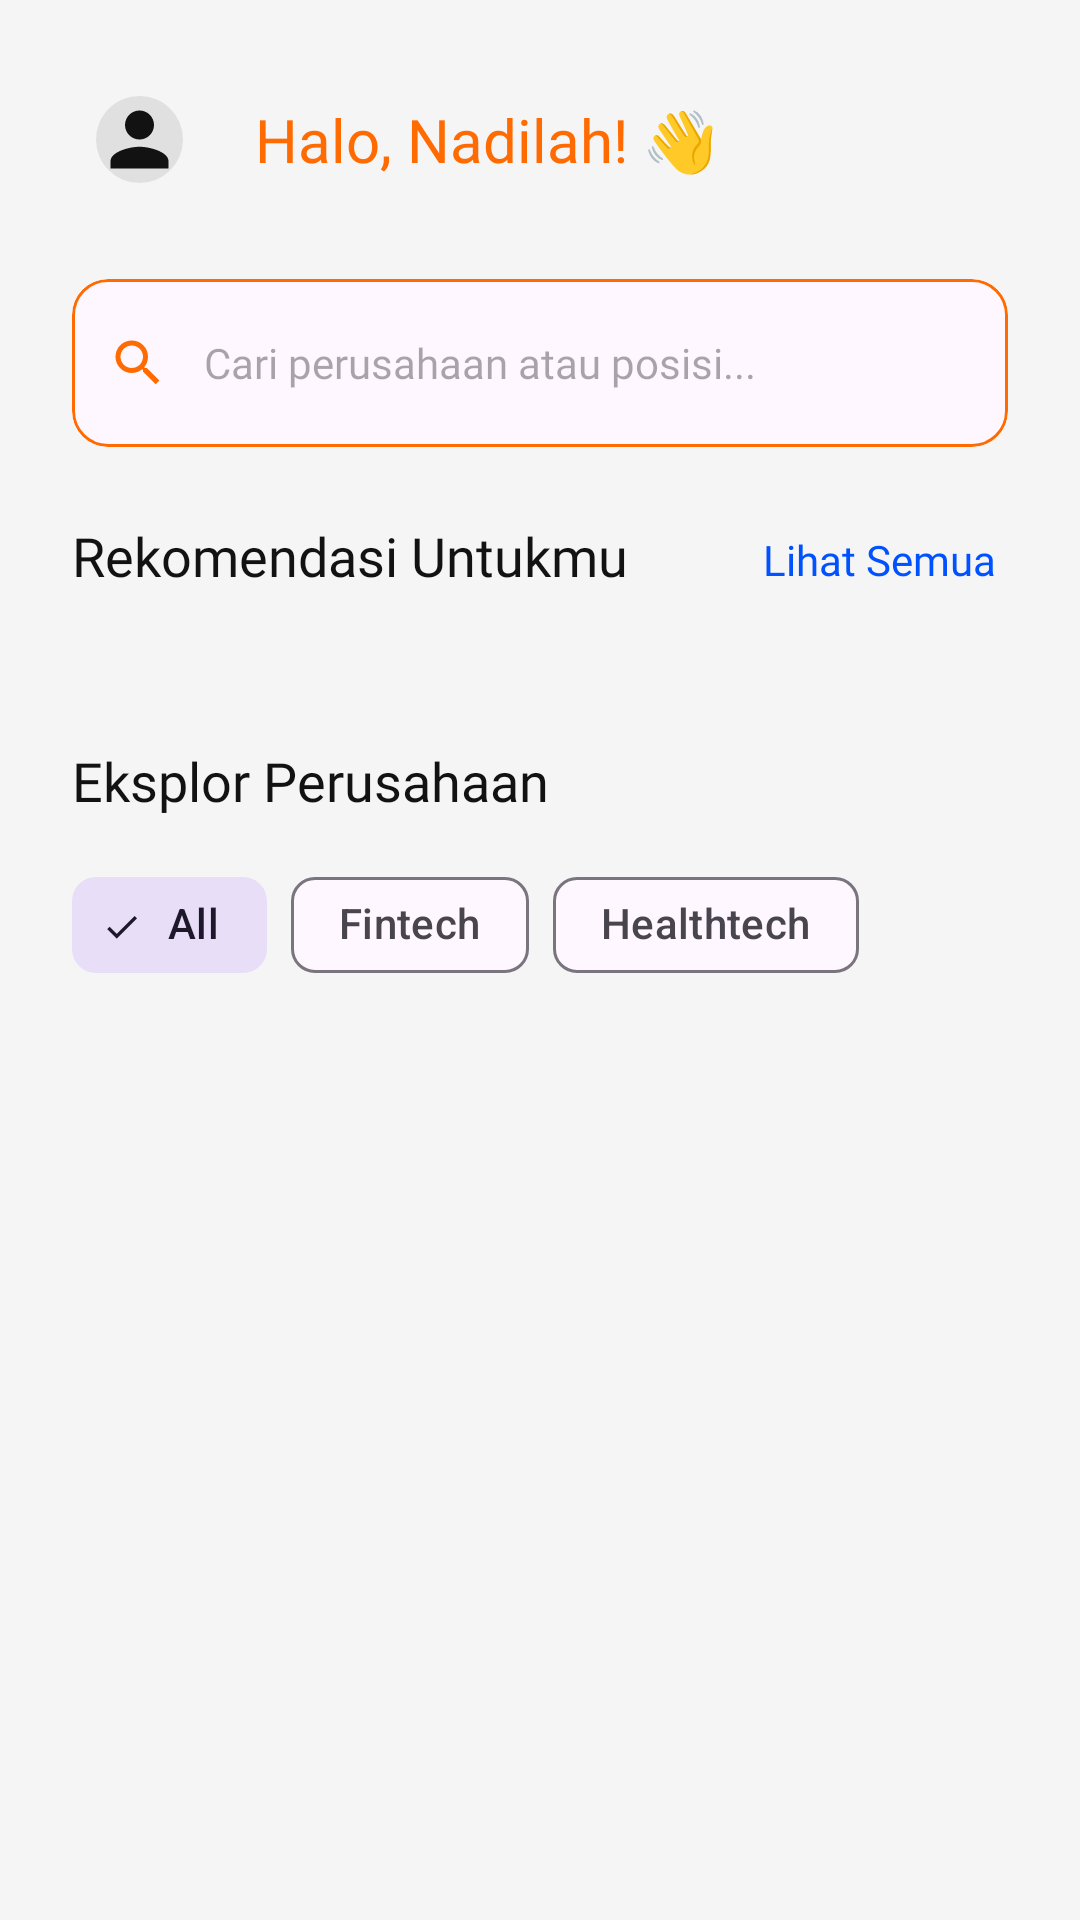

Icon bounding boxes for this 1080w x 1920h phone screenshot, format (x1, y1, x2, y2):
Profile Picture: (110, 110, 169, 169)
Search Icon: (115, 340, 160, 384)
